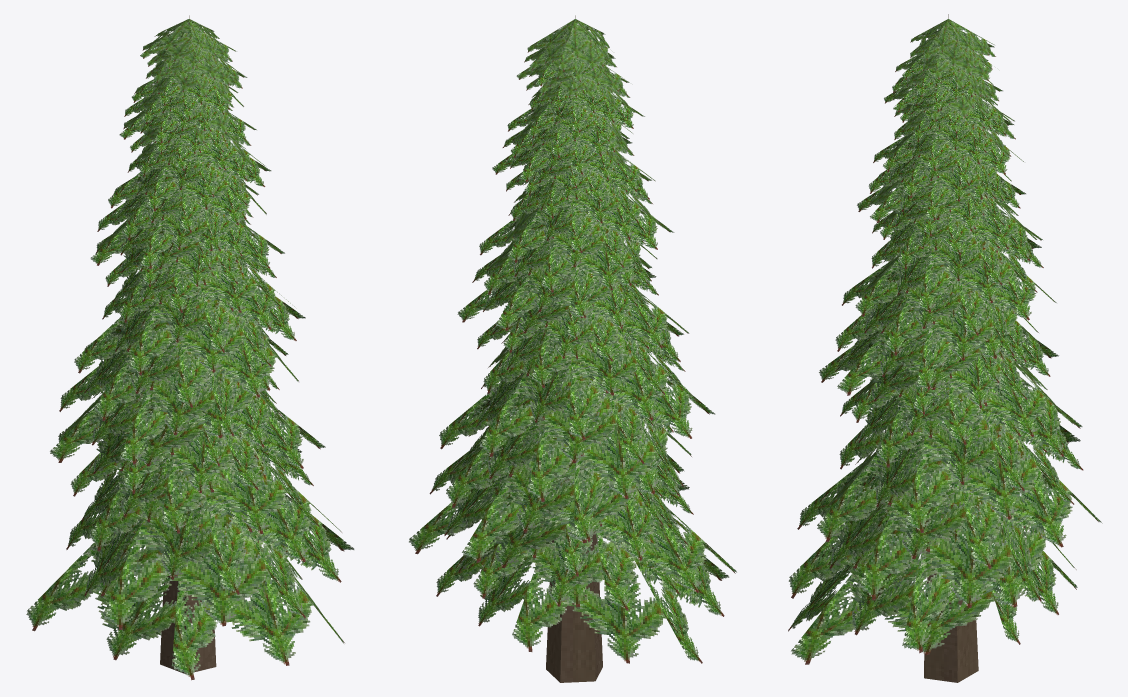
File: tree.glb
3 views of the same model, side by side, from view 1: azimuth 30°, elevation 25°; view 2: azimuth 150°, elevation 25°; view 3: azimuth 270°, elevation 25° (orthographic).
Parts seen in each view (by area): view 1: tree; view 2: tree; view 3: tree.
Part boxes in pixels (x1,y1,x2,y2): tree: (26,15,354,680); tree: (409,15,736,682); tree: (788,14,1102,682).
Bounding box in the file's own units: 5.84 × 12 × 5.58.
2 materials, 2 textured.
